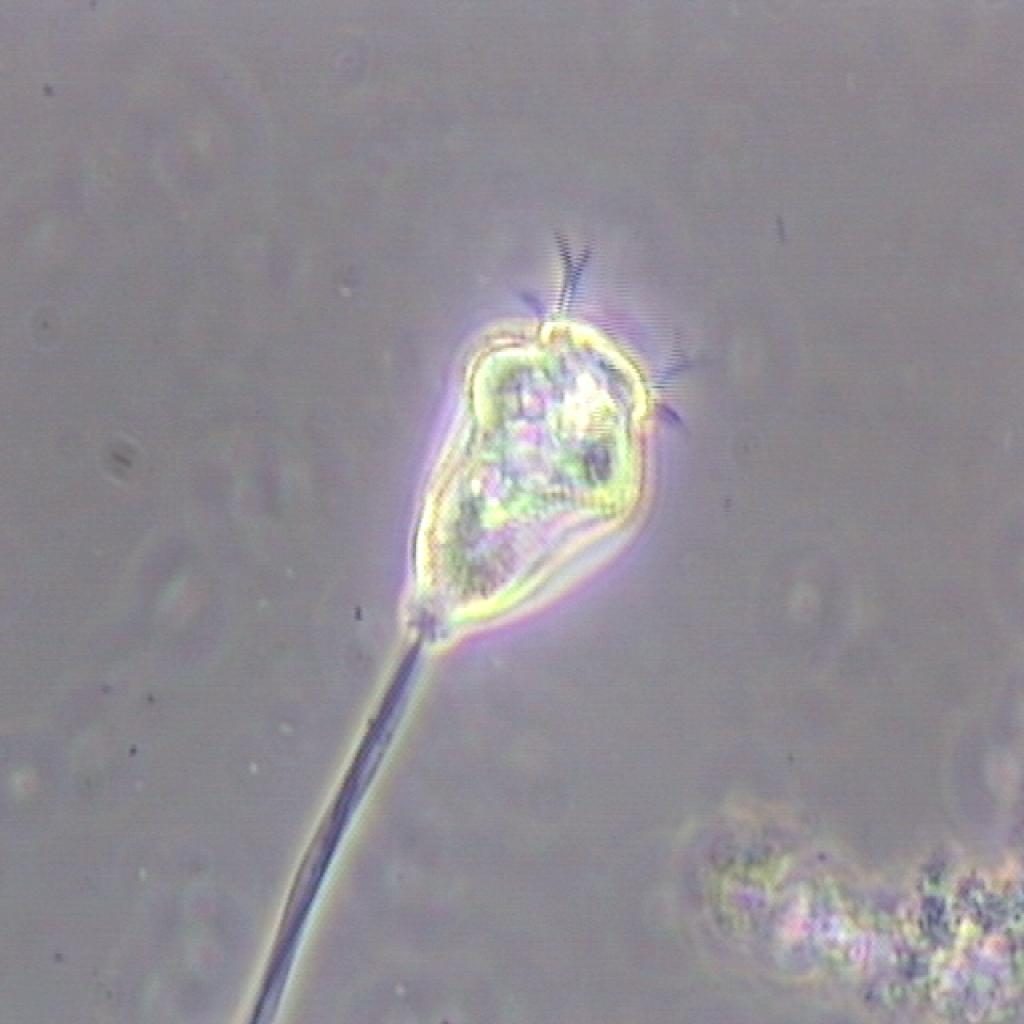Vorticella: (253, 192, 712, 1024)
